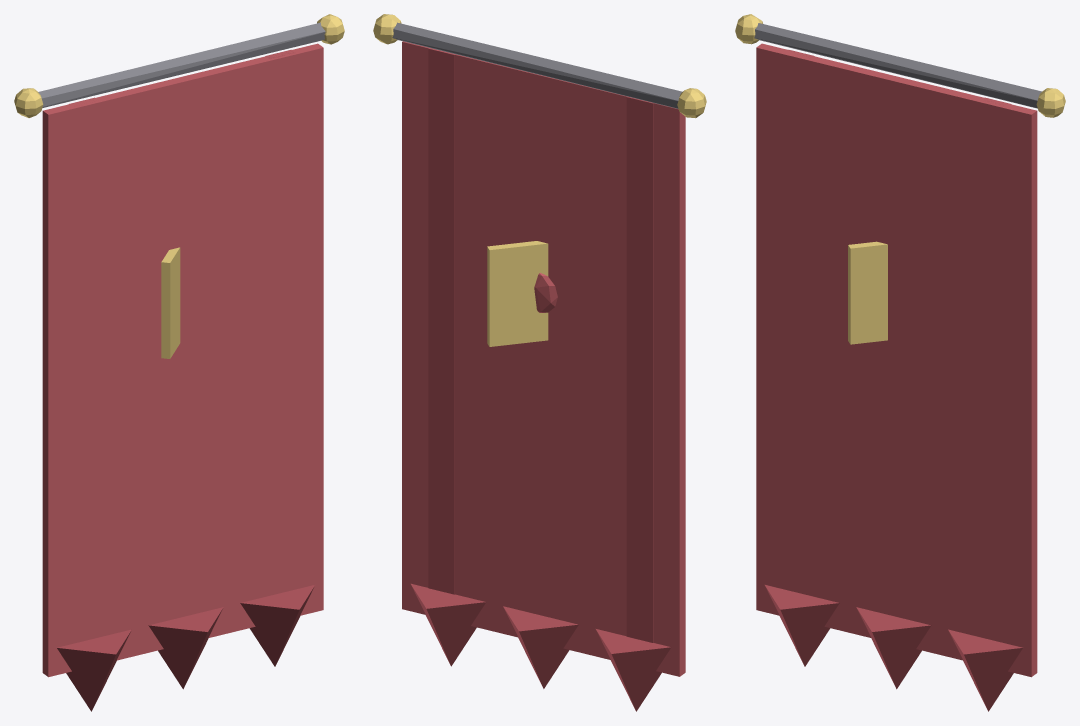
The model's file is dgn_banner.glb.
3 views of the same model, side by side, from view 1: azimuth 30°, elevation 25°; view 2: azimuth 150°, elevation 25°; view 3: azimuth 330°, elevation 25° (orthographic).
Visible parts, largest first — view 1: dgn_banner; view 2: dgn_banner; view 3: dgn_banner.
Boxes of the visible parts, x1,y1,x2,y2 form: dgn_banner: [14, 14, 344, 711]; dgn_banner: [373, 14, 706, 711]; dgn_banner: [735, 14, 1065, 711].
Size of the model in its own units: 1 by 1.85 by 0.26.
